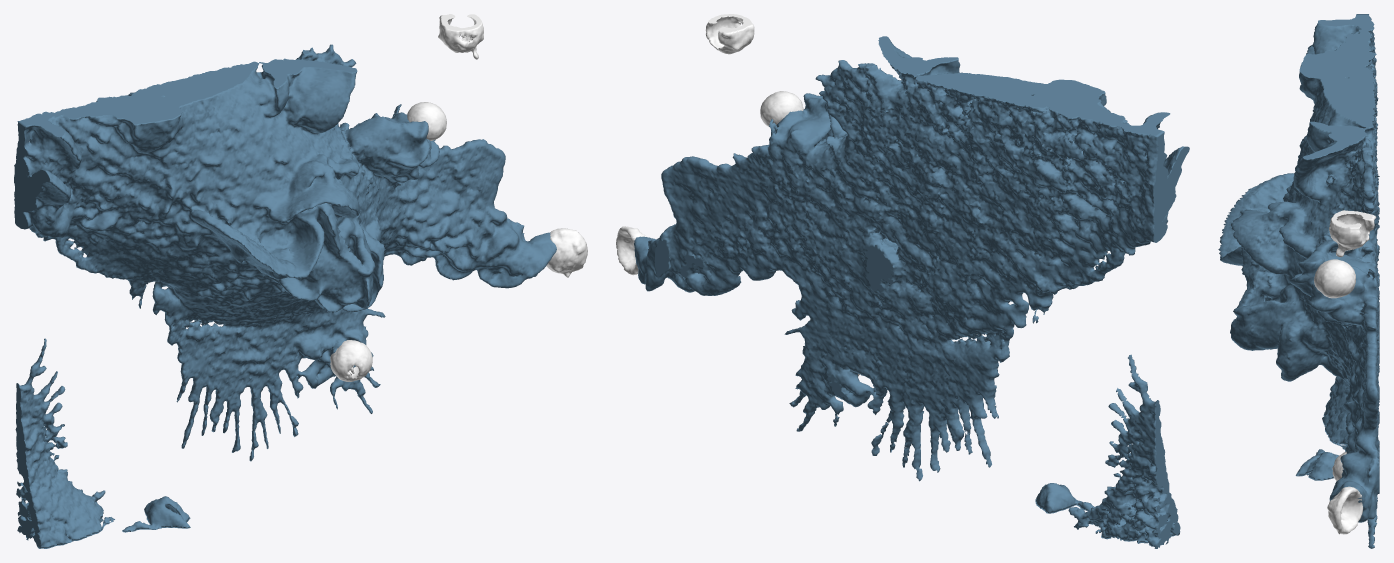
3 renders of one model, left to right at view 1: azimuth 30°, elevation 25°; view 2: azimuth 150°, elevation 25°; view 3: azimuth 270°, elevation 25°, orthographic. The views are drawn at different scales.
Parts seen in each view (by area): view 1: surface (×2); view 2: surface (×2); view 3: surface (×2).
Part boxes in pixels (left/top/right/bottom): surface (×2): left=14, top=14, right=587, bottom=548; surface (×2): left=616, top=14, right=1189, bottom=548; surface (×2): left=1218, top=14, right=1379, bottom=548.
Size of the model in its own units: 613 by 436 by 160.
